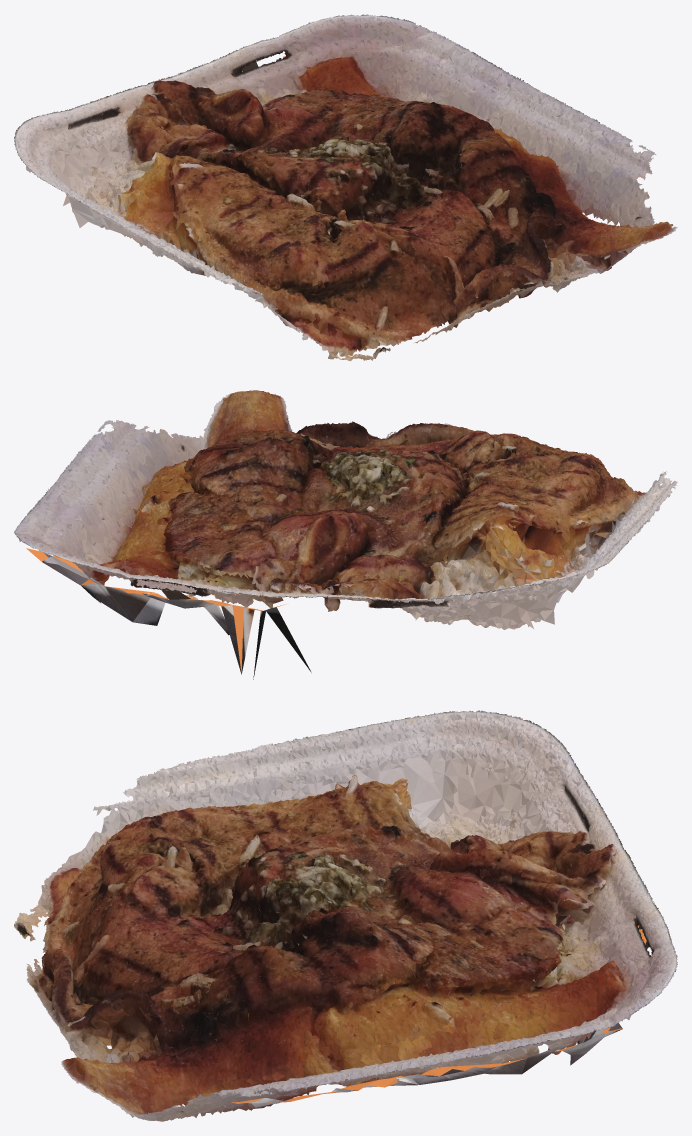
File: prueba-5060.glb
The picture shows the model from 3 angles, top to bottom: view 1: azimuth 30°, elevation 25°; view 2: azimuth 150°, elevation 25°; view 3: azimuth 270°, elevation 25°; orthographic projection. The views are drawn at different scales.
Visible parts, largest first — view 1: node; view 2: node; view 3: node.
Part boxes in pixels (bbox=[...]): node: bbox=[14, 14, 677, 361]; node: bbox=[14, 390, 677, 679]; node: bbox=[14, 710, 677, 1121].
Bounding box in the file's own units: 0.2 × 0.0382 × 0.1774.
1 material, 1 textured.
